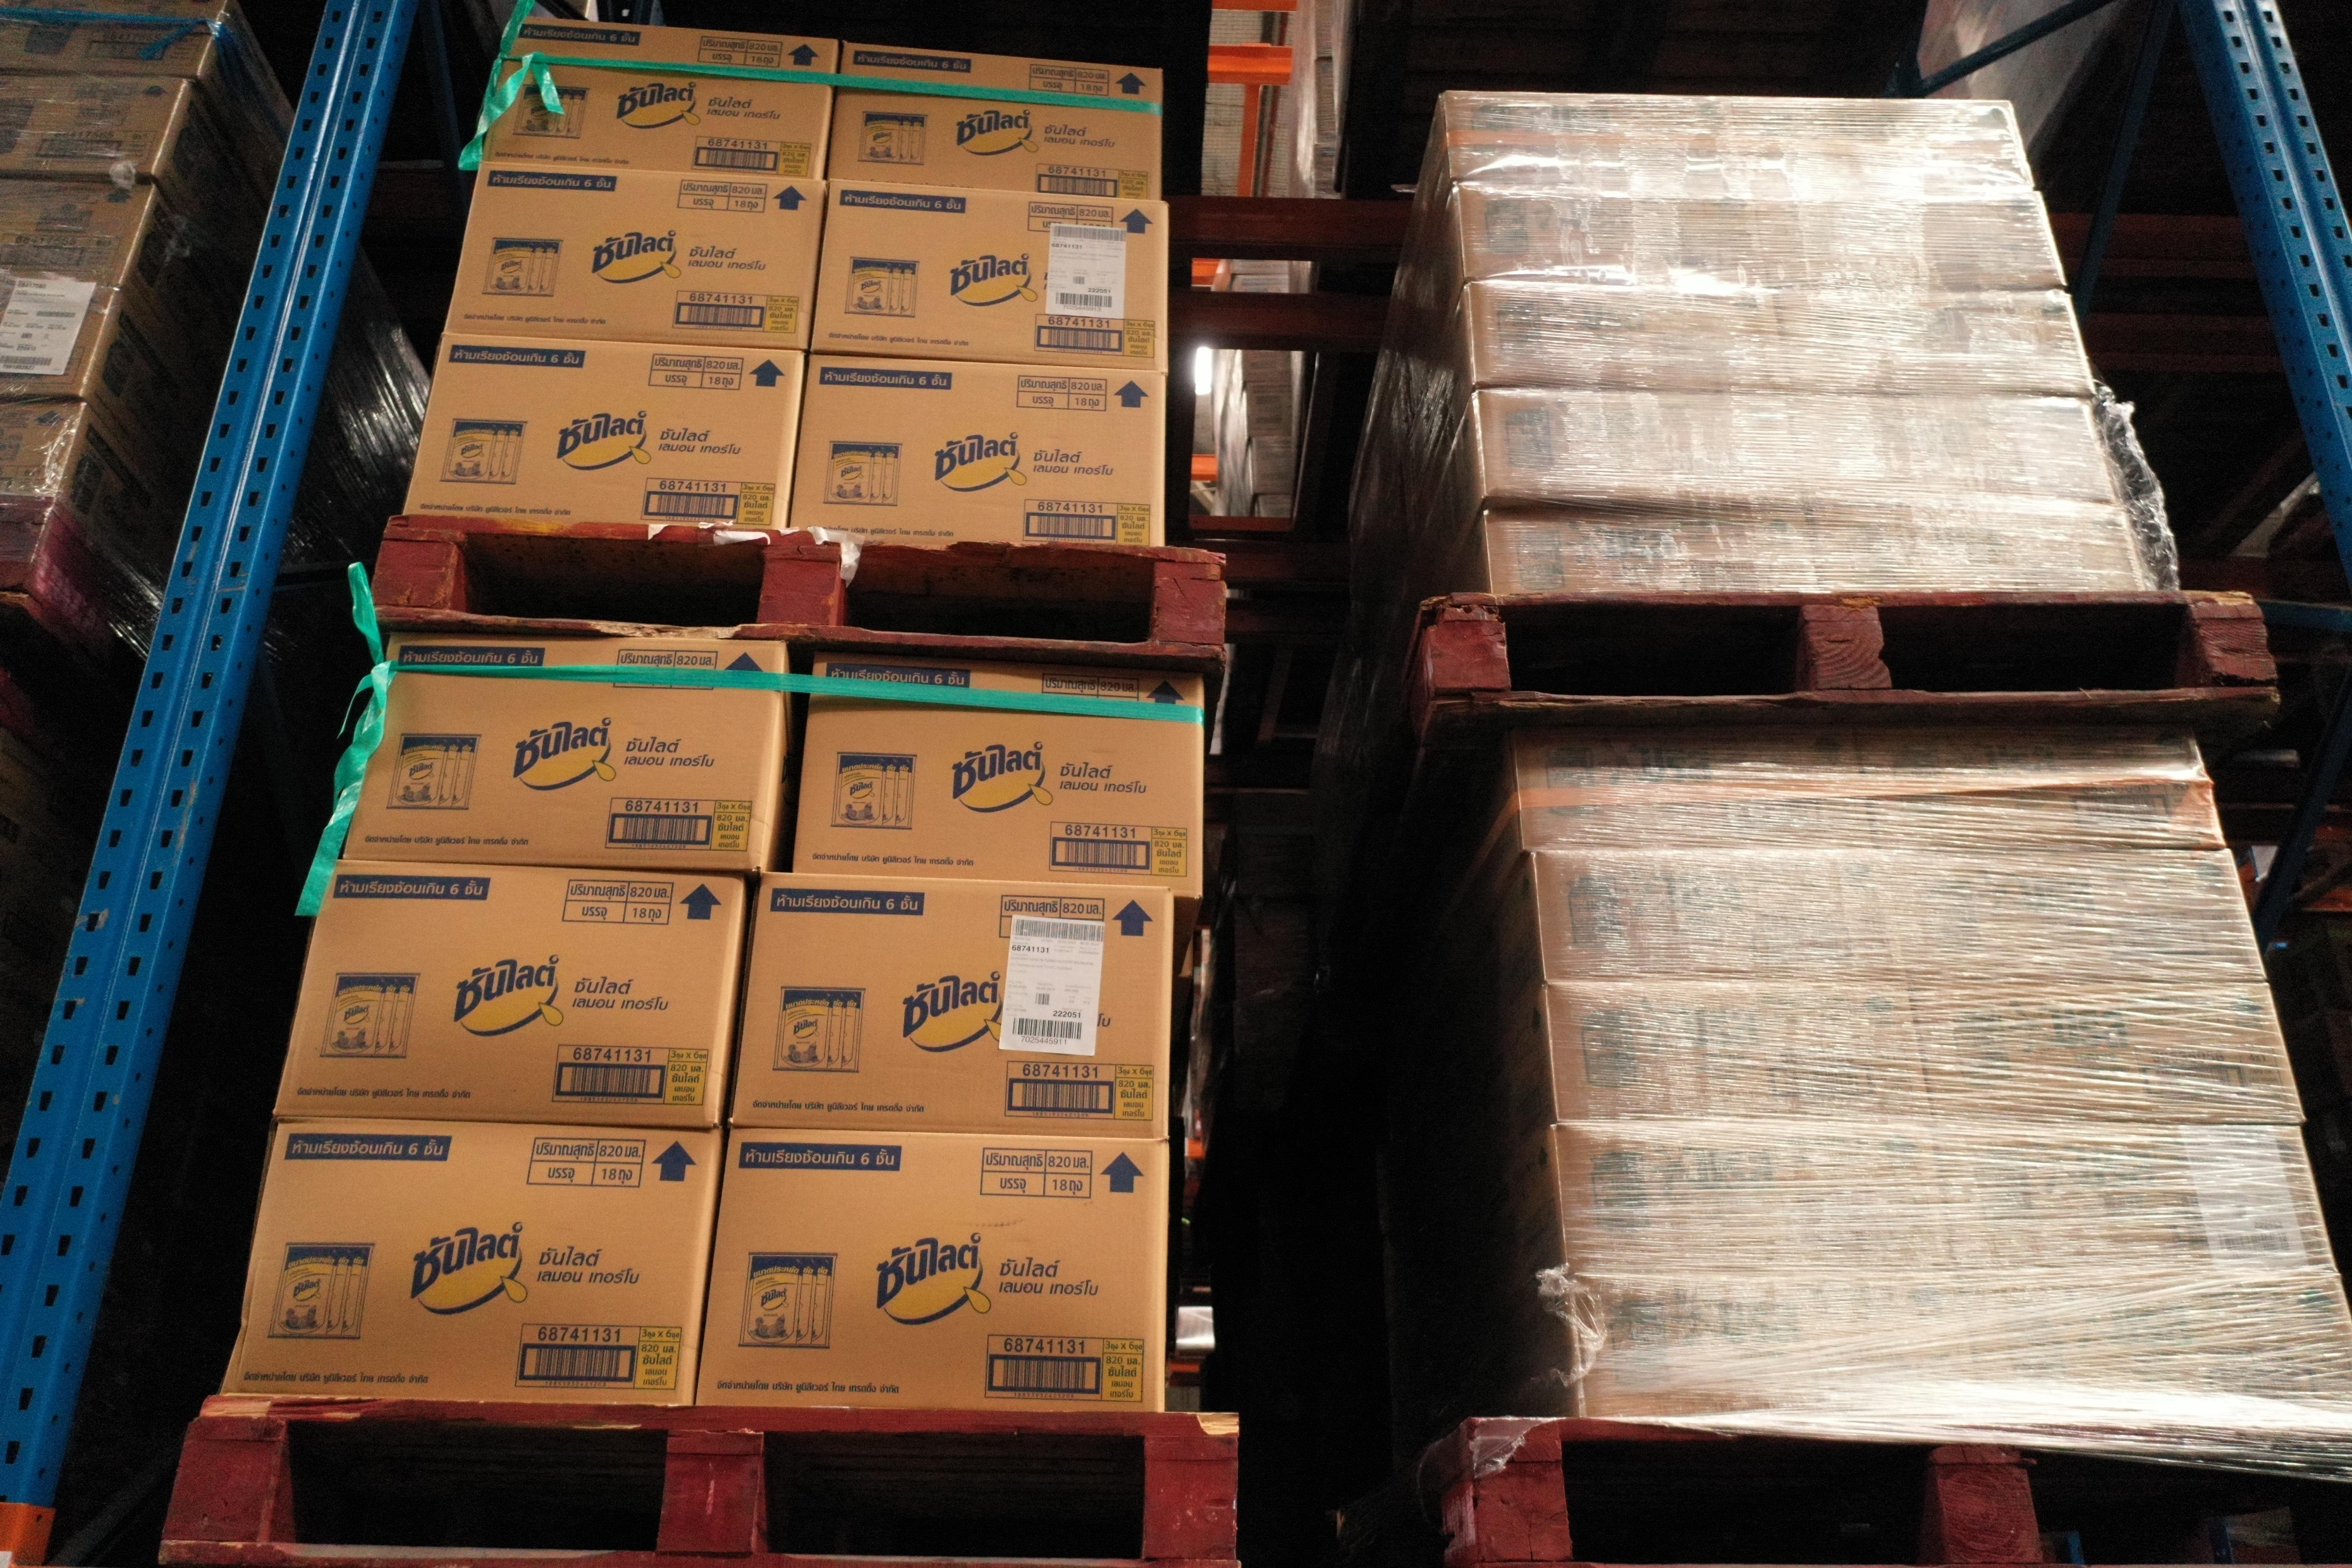-: (217, 1115, 723, 1405), (695, 1123, 1171, 1412), (269, 857, 744, 1130), (728, 868, 1174, 1139), (339, 625, 786, 870), (791, 644, 1204, 901), (402, 331, 810, 530), (786, 348, 1167, 548), (810, 173, 1171, 374), (444, 161, 826, 350), (1956, 1269, 2352, 1430), (1554, 1115, 1956, 1272), (1566, 1269, 1981, 1421), (1934, 1120, 2340, 1274), (479, 16, 840, 182), (1909, 976, 2308, 1123), (826, 38, 1162, 205), (1543, 978, 1932, 1118), (1533, 847, 1913, 983), (1883, 849, 2268, 982), (1857, 723, 2226, 850), (1514, 724, 1876, 854), (1771, 285, 2098, 402), (1787, 392, 2119, 506), (1477, 387, 1802, 502), (1466, 276, 1792, 392), (1452, 177, 1766, 290), (1802, 493, 2147, 591), (1442, 86, 1750, 194), (1480, 500, 1825, 597), (1753, 187, 2065, 285), (1734, 94, 2035, 194), (0, 68, 189, 178), (0, 177, 159, 285), (0, 276, 121, 397), (0, 395, 86, 502)
